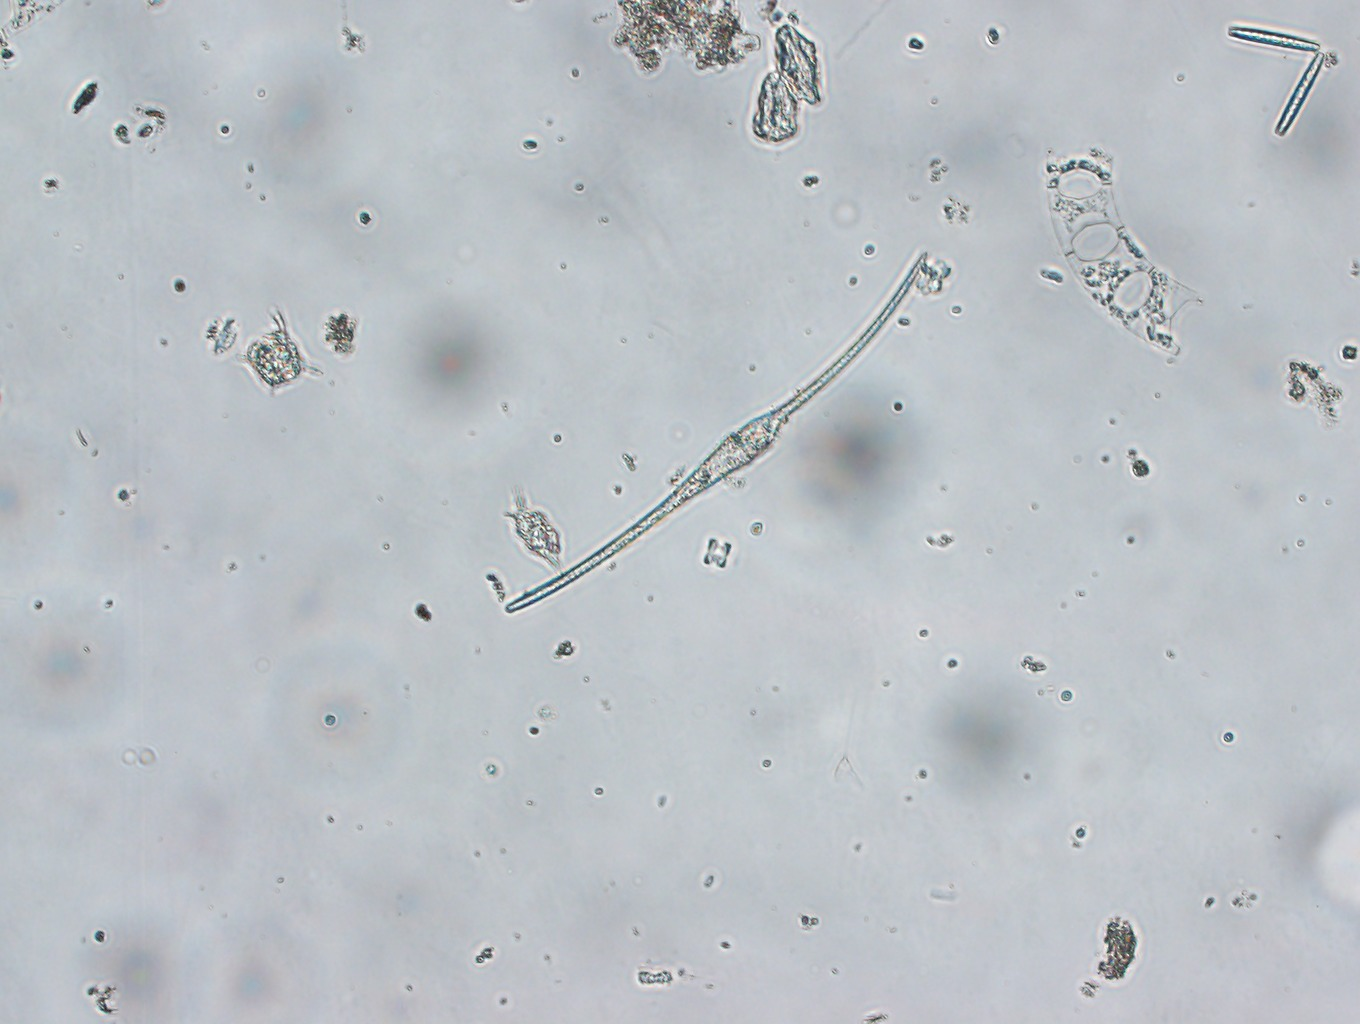ceratium fusus: (482, 242, 932, 618)
eucampia: (1037, 136, 1209, 362)
thalassionema nitzschioides: (1217, 18, 1326, 141)
